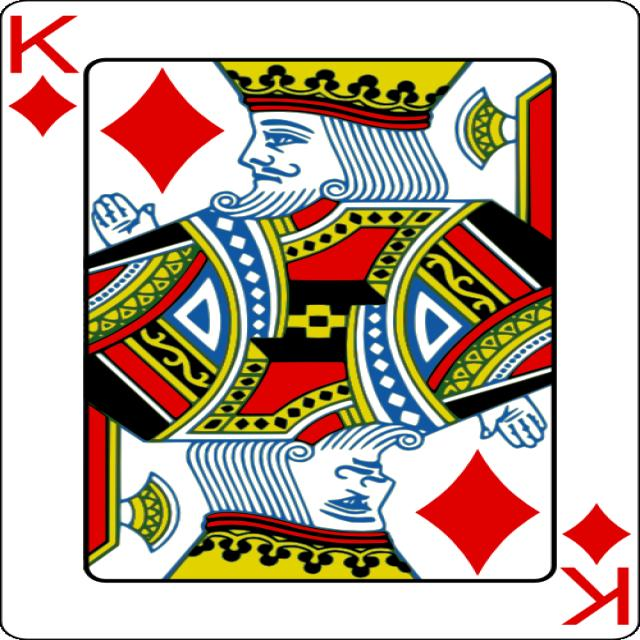Diamond: (99, 67, 226, 194), (414, 448, 540, 576), (561, 502, 632, 565), (8, 75, 78, 137)
King: (9, 13, 80, 74), (559, 566, 631, 625)
